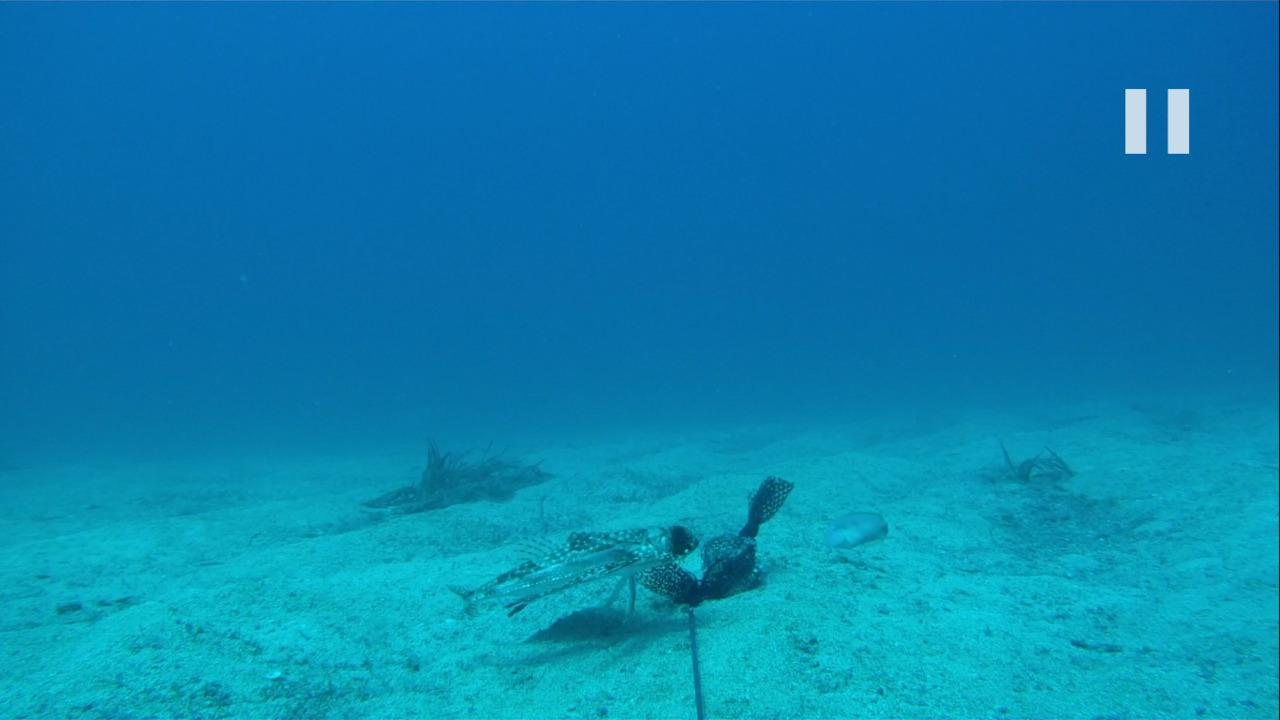dactylopterus: (442, 511, 696, 641)
raor: (821, 500, 894, 553)
